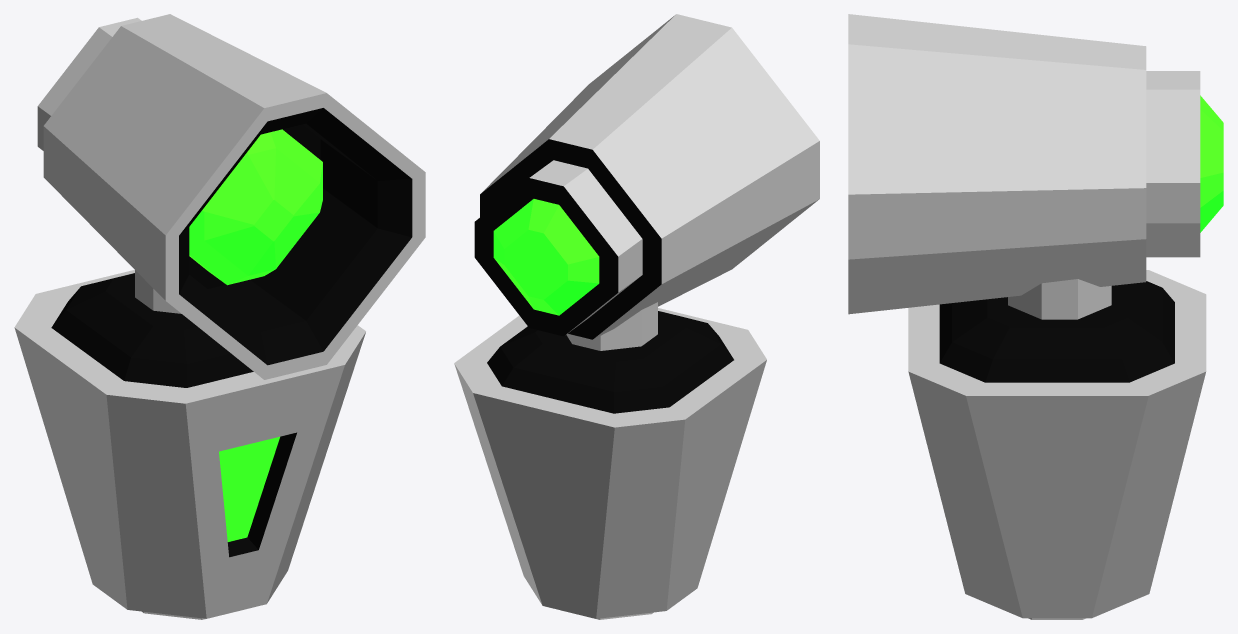
The model's file is EnergyBallEnemy.fbx.
3 renders of one model, left to right at view 1: azimuth 30°, elevation 25°; view 2: azimuth 150°, elevation 25°; view 3: azimuth 270°, elevation 25°, orthographic. The views are drawn at different scales.
Visible parts, largest first — view 1: head, Cube.001; view 2: head, Cube.001; view 3: head, Cube.001.
Boxes of the visible parts, bbox=[...] form: head: bbox=[37, 14, 425, 379]; Cube.001: bbox=[14, 270, 365, 619]; head: bbox=[474, 14, 819, 350]; Cube.001: bbox=[454, 308, 766, 619]; head: bbox=[848, 14, 1223, 319]; Cube.001: bbox=[908, 270, 1206, 619].
Bounding box in the file's own units: 200 × 416 × 252.
